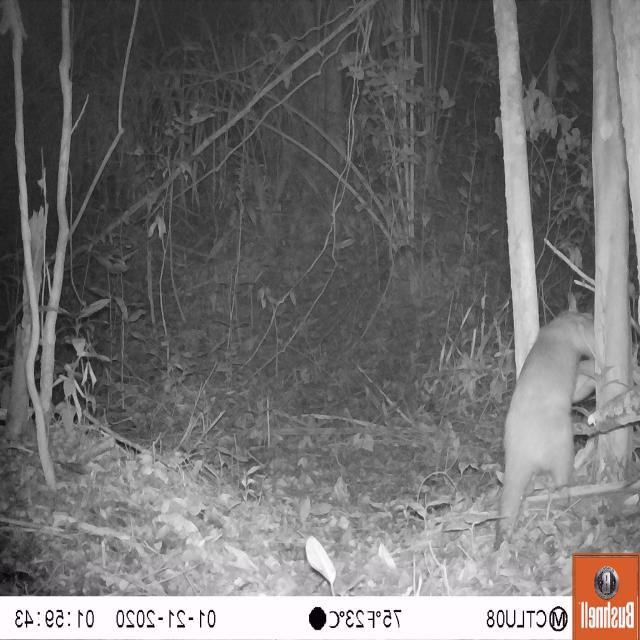Southern Tamandua: (496, 292, 608, 554)
